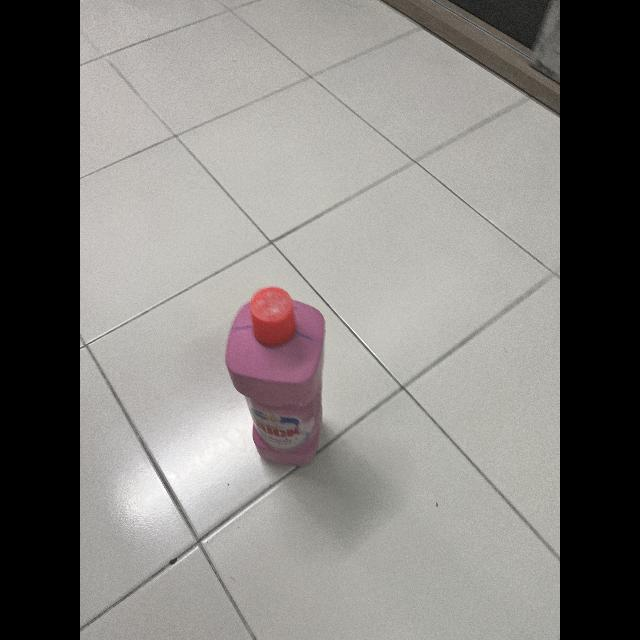chemical_plastic_bottle: (226, 280, 330, 474)
